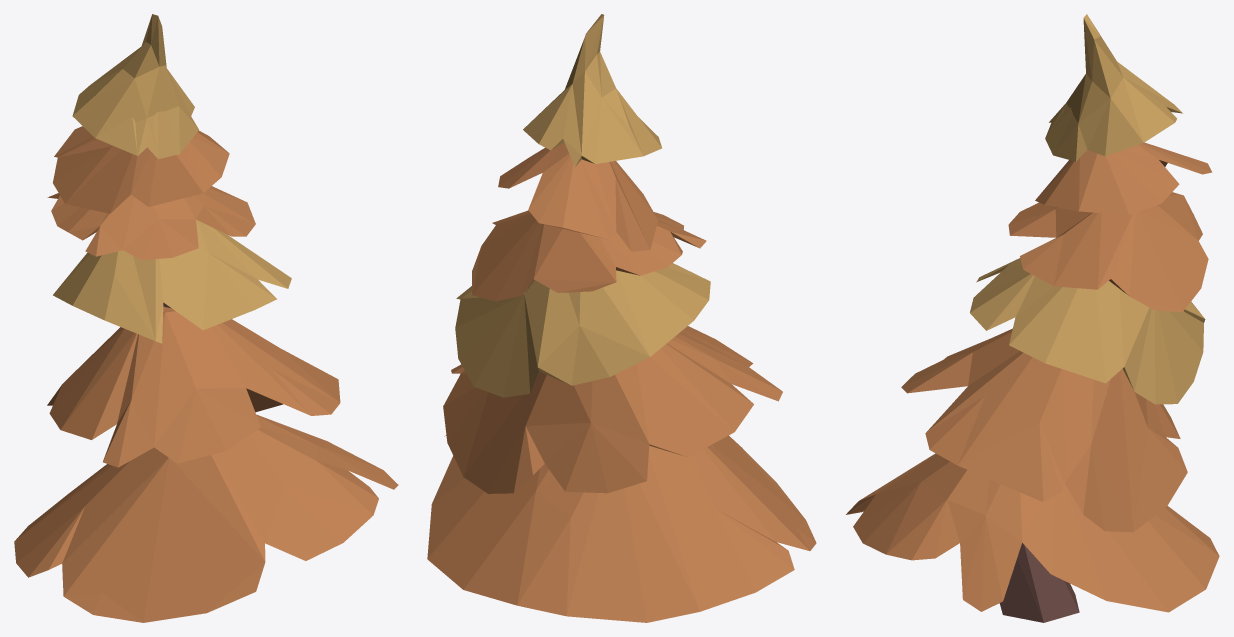
File: PineTree_Autumn_3.lod2.glb
3 renders of one model, left to right at view 1: azimuth 30°, elevation 25°; view 2: azimuth 150°, elevation 25°; view 3: azimuth 270°, elevation 25°, orthographic. The views are drawn at different scales.
Visible parts, largest first — view 1: PineTree_Autumn_3; view 2: PineTree_Autumn_3; view 3: PineTree_Autumn_3.
Boxes of the visible parts, left/top/right/bottom form: PineTree_Autumn_3: left=14, top=14, right=398, bottom=622; PineTree_Autumn_3: left=427, top=14, right=816, bottom=622; PineTree_Autumn_3: left=846, top=14, right=1219, bottom=622.
Bounding box in the file's own units: 2.15 × 3.31 × 1.94.
